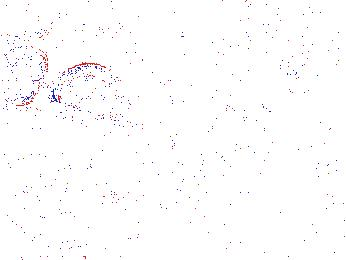moon jellyfish: (194, 37, 291, 111), (123, 40, 218, 96), (51, 63, 128, 121), (1, 46, 50, 107)
